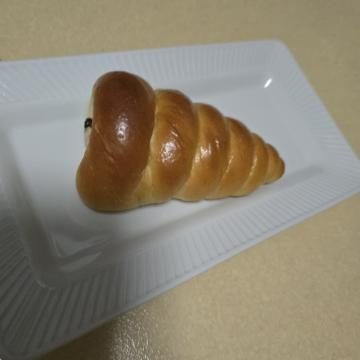cream horn: (52, 59, 228, 304)
